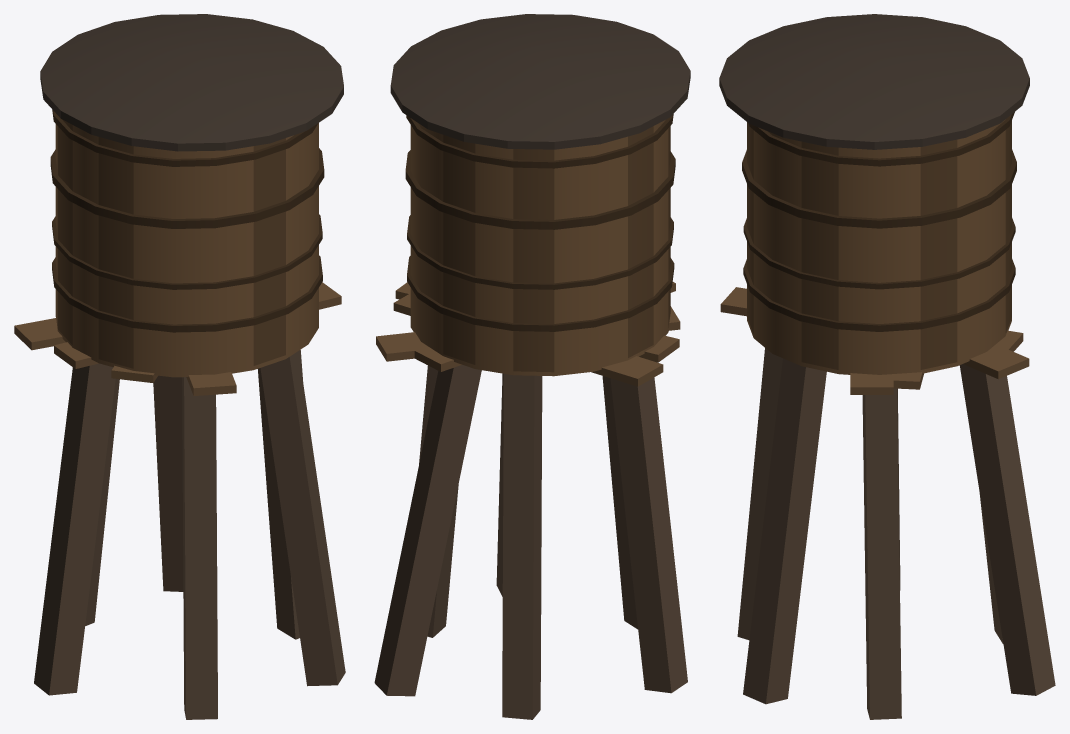
The model's file is Water Tower.fbx.
The picture shows the model from 3 angles, left to right: view 1: azimuth 30°, elevation 25°; view 2: azimuth 150°, elevation 25°; view 3: azimuth 270°, elevation 25°; orthographic projection.
Parts seen in each view (by area): view 1: pCone11; view 2: pCone11; view 3: pCone11.
Part boxes in pixels (x1,y1,x2,y2): pCone11: (14,14,345,719); pCone11: (374,14,690,719); pCone11: (719,14,1055,719).
Size of the model in its own units: 7.54 by 15.4 by 7.75.
